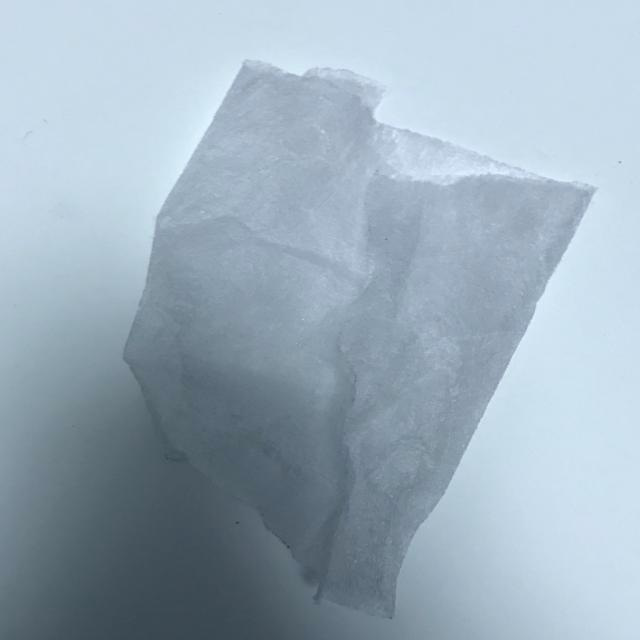paper: (113, 40, 600, 623)
